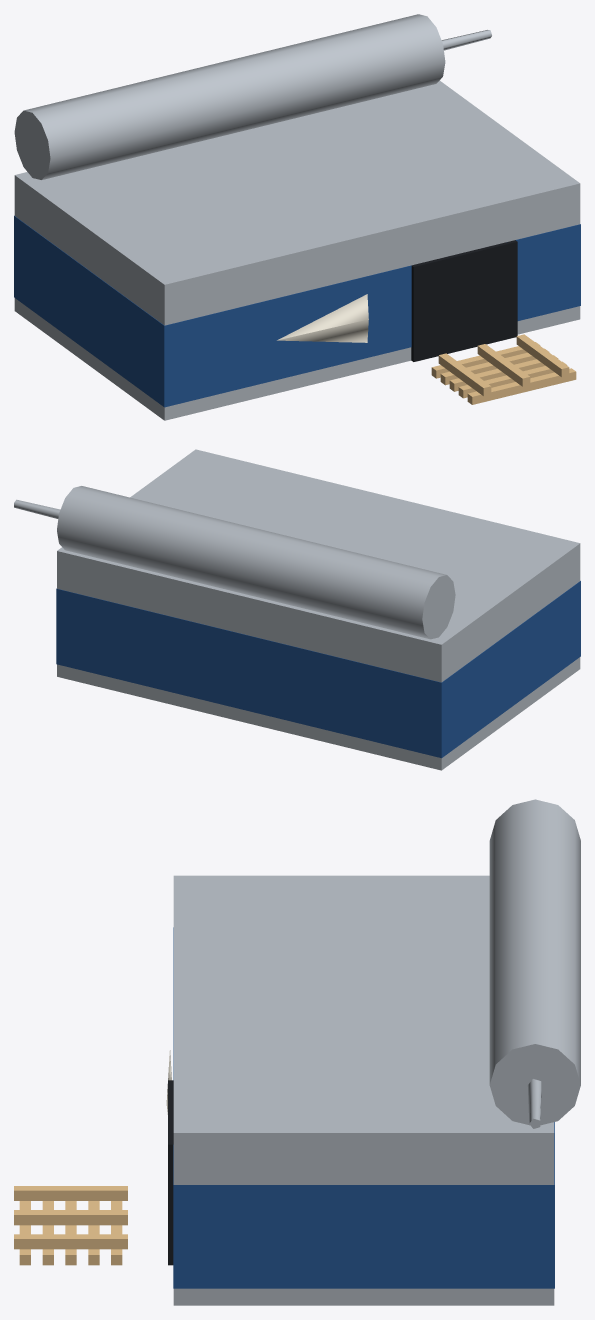
File: warehouse.glb
The picture shows the model from 3 angles, top to bottom: view 1: azimuth 30°, elevation 25°; view 2: azimuth 150°, elevation 25°; view 3: azimuth 270°, elevation 25°; orthographic projection. The views are drawn at different scales.
Parts seen in each view (by area): view 1: warehouse; view 2: warehouse; view 3: warehouse.
Part boxes in pixels (bbox=[...]): warehouse: bbox=[14, 14, 580, 420]; warehouse: bbox=[14, 449, 580, 770]; warehouse: bbox=[14, 799, 580, 1305].
Size of the model in its own units: 18.02 by 7.4 by 14.9.
